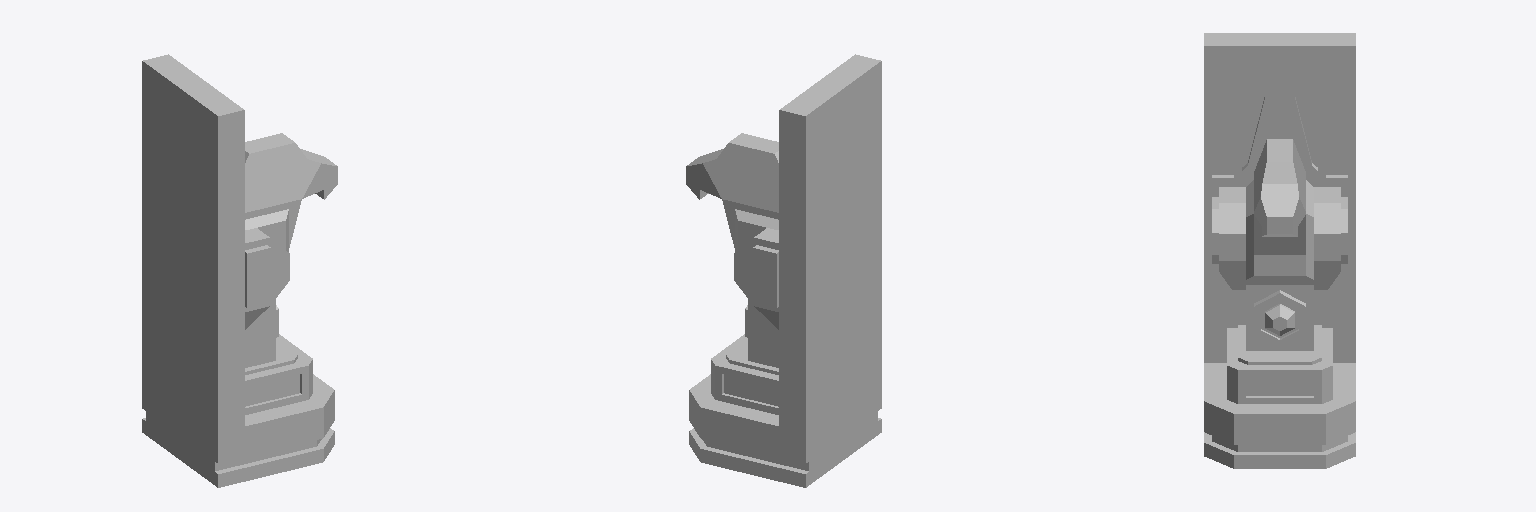
Rendered from FixtureStatue.obj.
3 views of the same model, side by side, from view 1: azimuth 30°, elevation 25°; view 2: azimuth 150°, elevation 25°; view 3: azimuth 270°, elevation 25° (orthographic).
Parts seen in each view (by area): view 1: FixtureStatue; view 2: FixtureStatue; view 3: FixtureStatue.
Boxes of the visible parts, x1,y1,x2,y2 form: FixtureStatue: [142, 54, 337, 487]; FixtureStatue: [686, 54, 881, 487]; FixtureStatue: [1204, 33, 1355, 468].
Bounding box in the file's own units: 1.92 × 4.5 × 1.67.